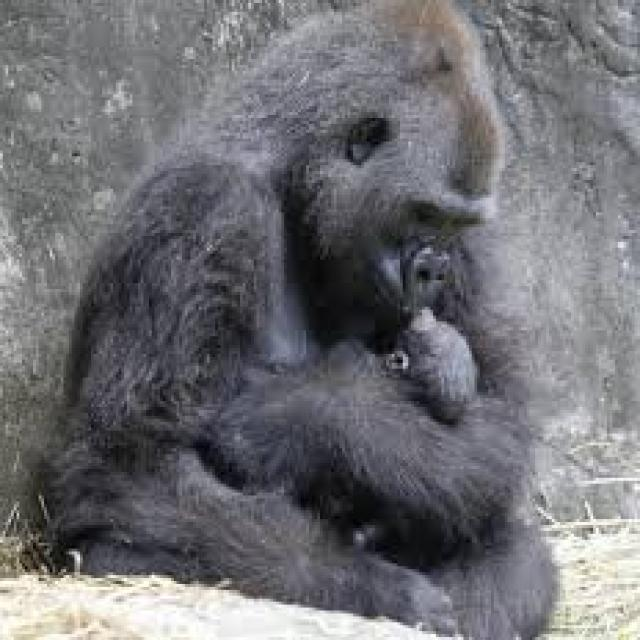Gorilla: (42, 0, 554, 640)
